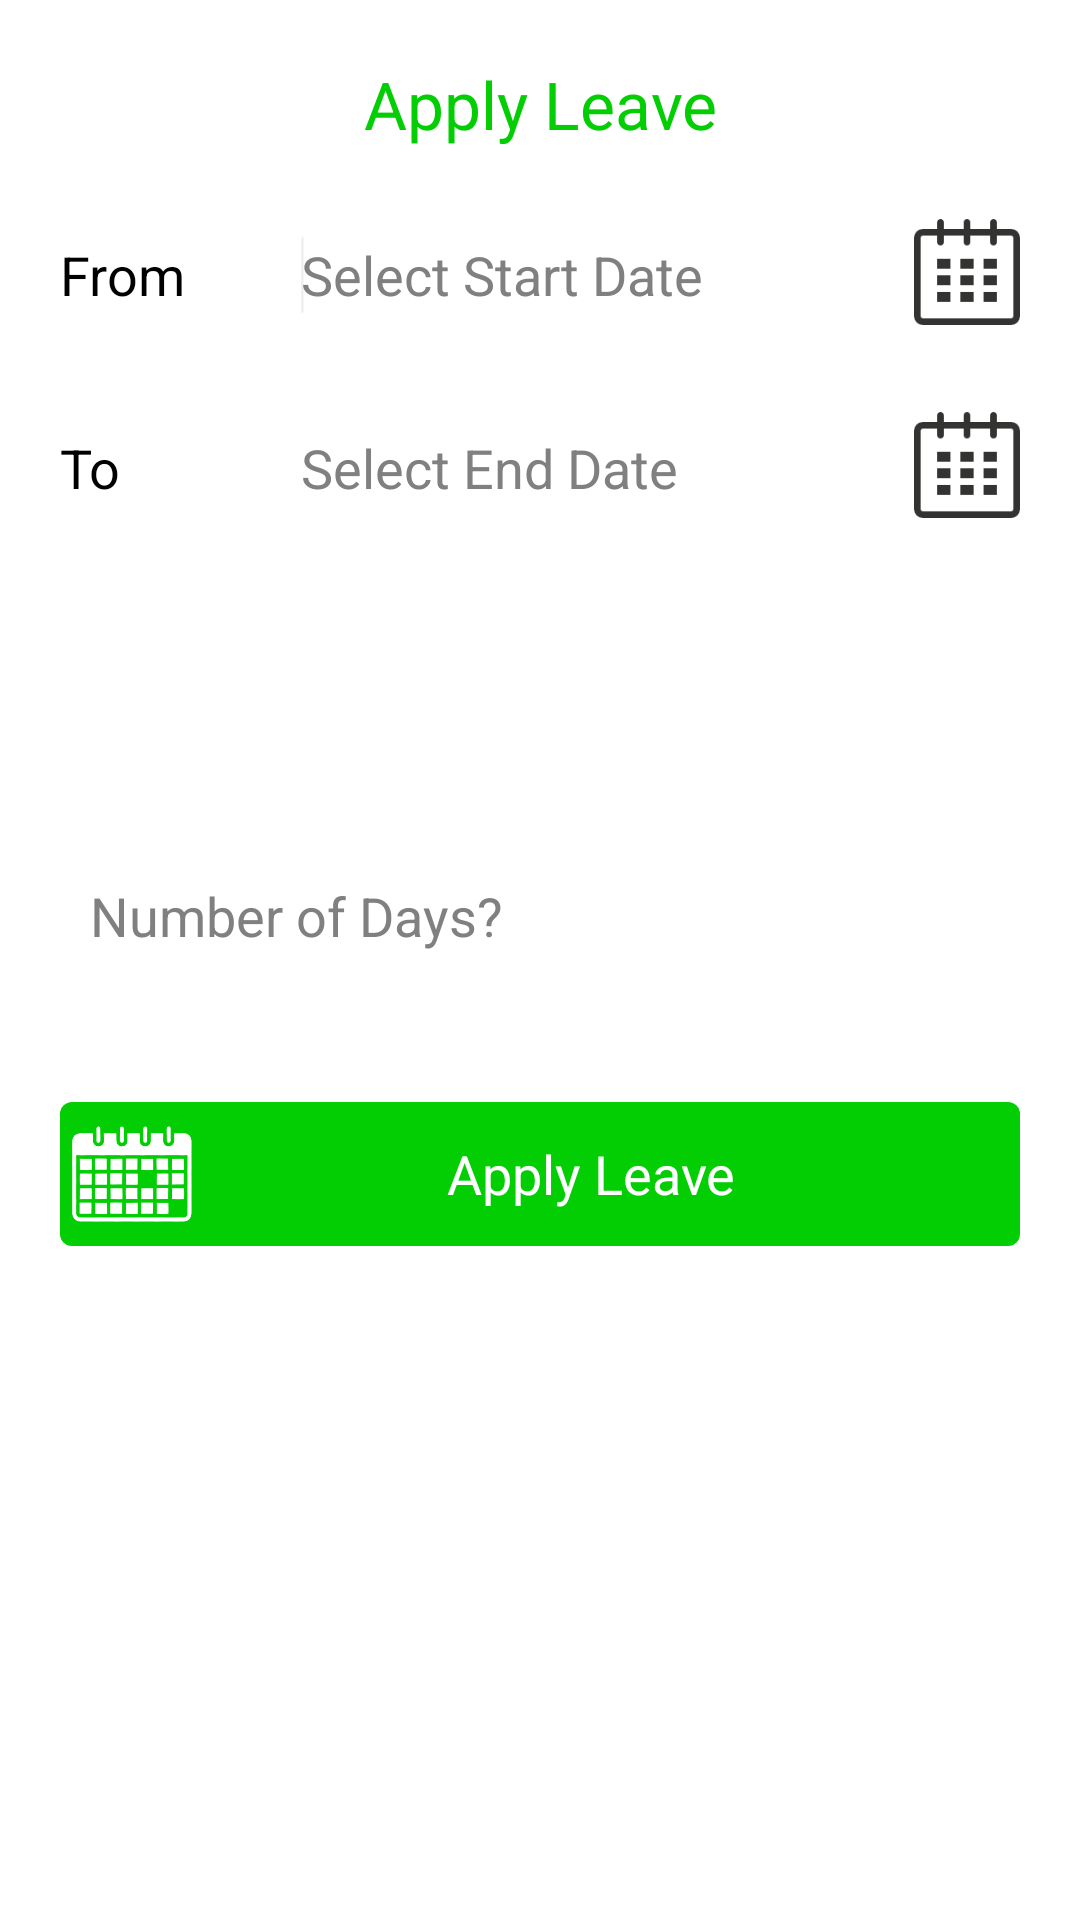

Icon bounding boxes for this 1080x1920 phone screenshot, format box(x1, y1, x2, y2):
cal: box(914, 219, 1020, 325), box(914, 412, 1020, 518)
